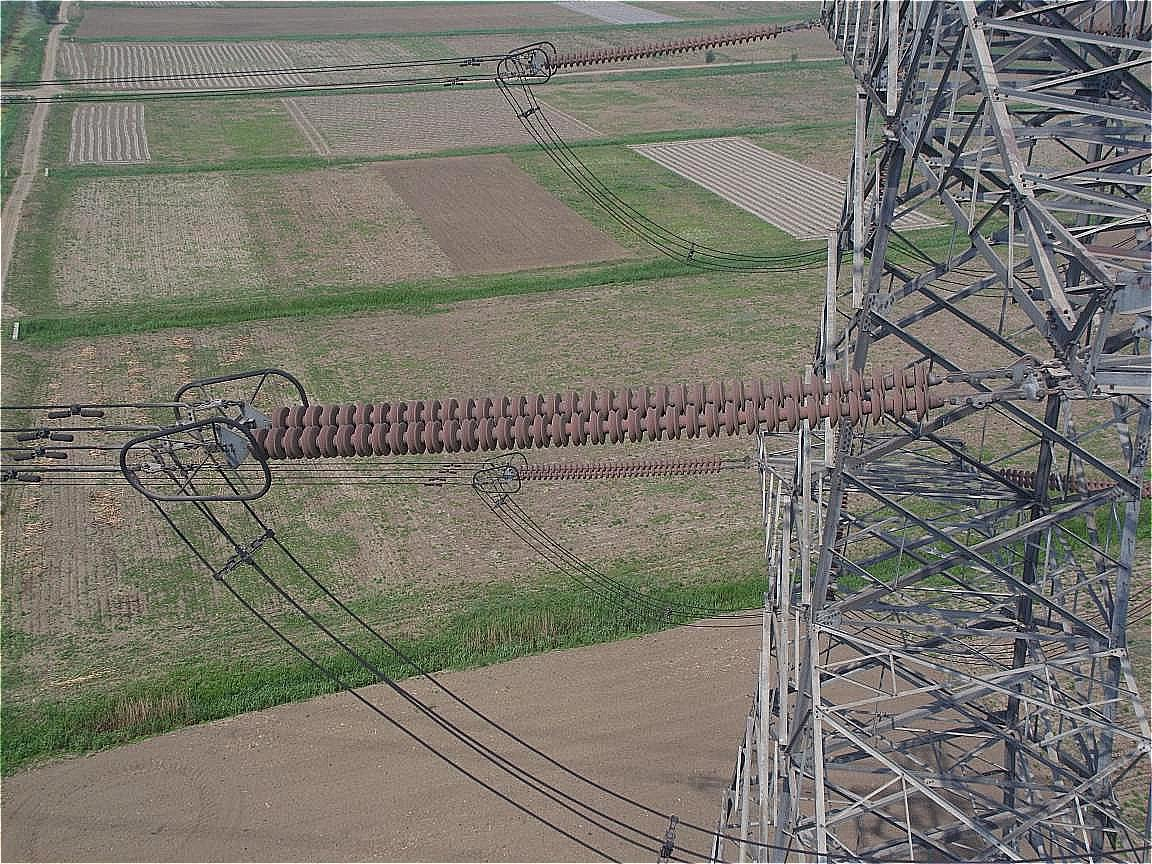insultor1: (506, 457, 731, 487)
insultor2: (215, 353, 953, 469)
